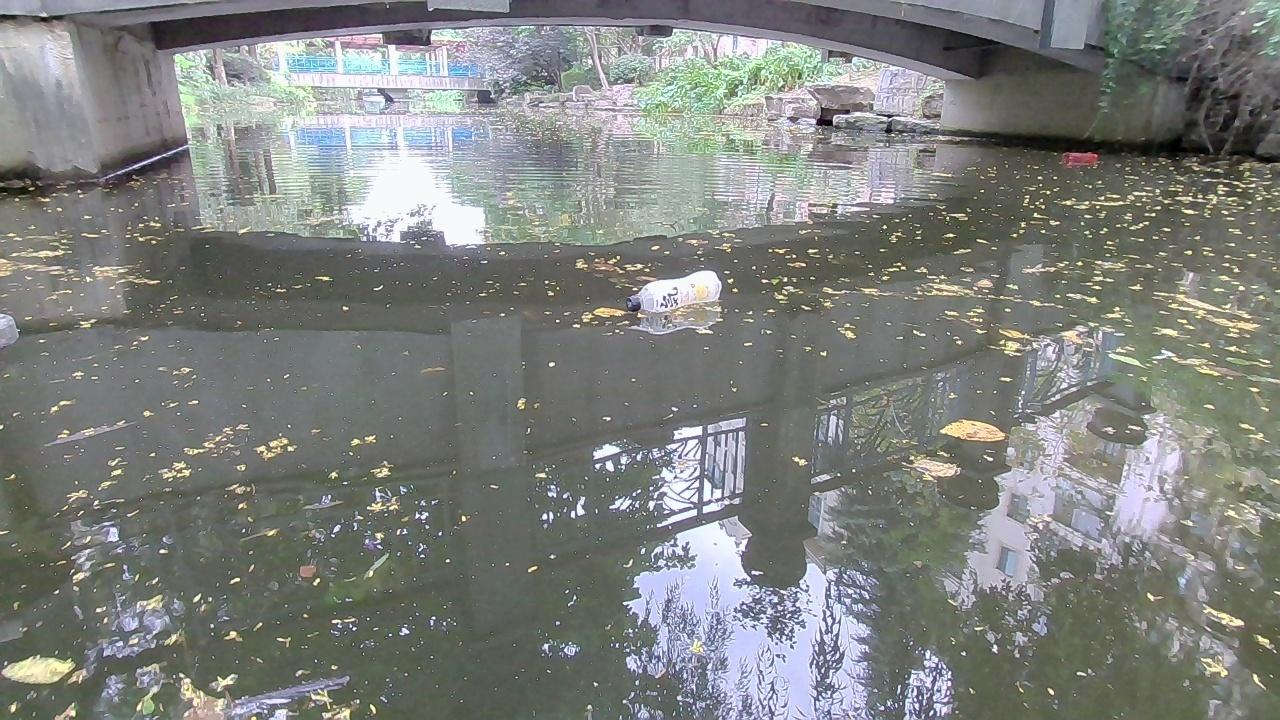bottle: (626, 270, 721, 308), (1061, 150, 1098, 163)
